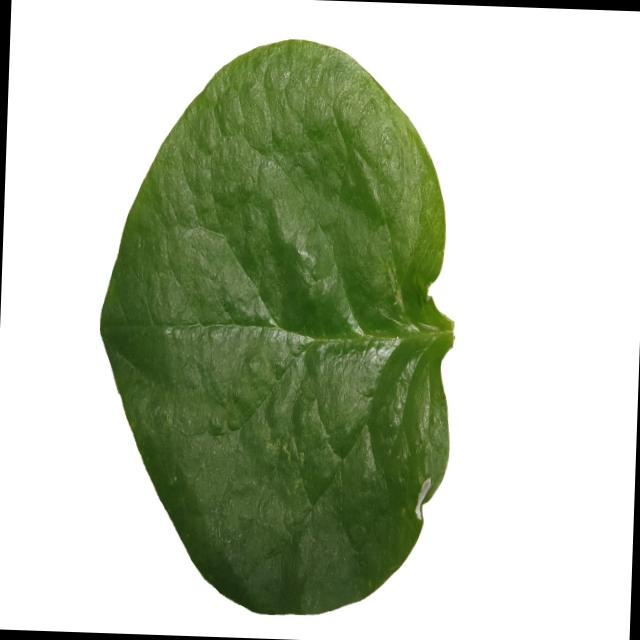Medicinal-Basale: (90, 30, 466, 621)
